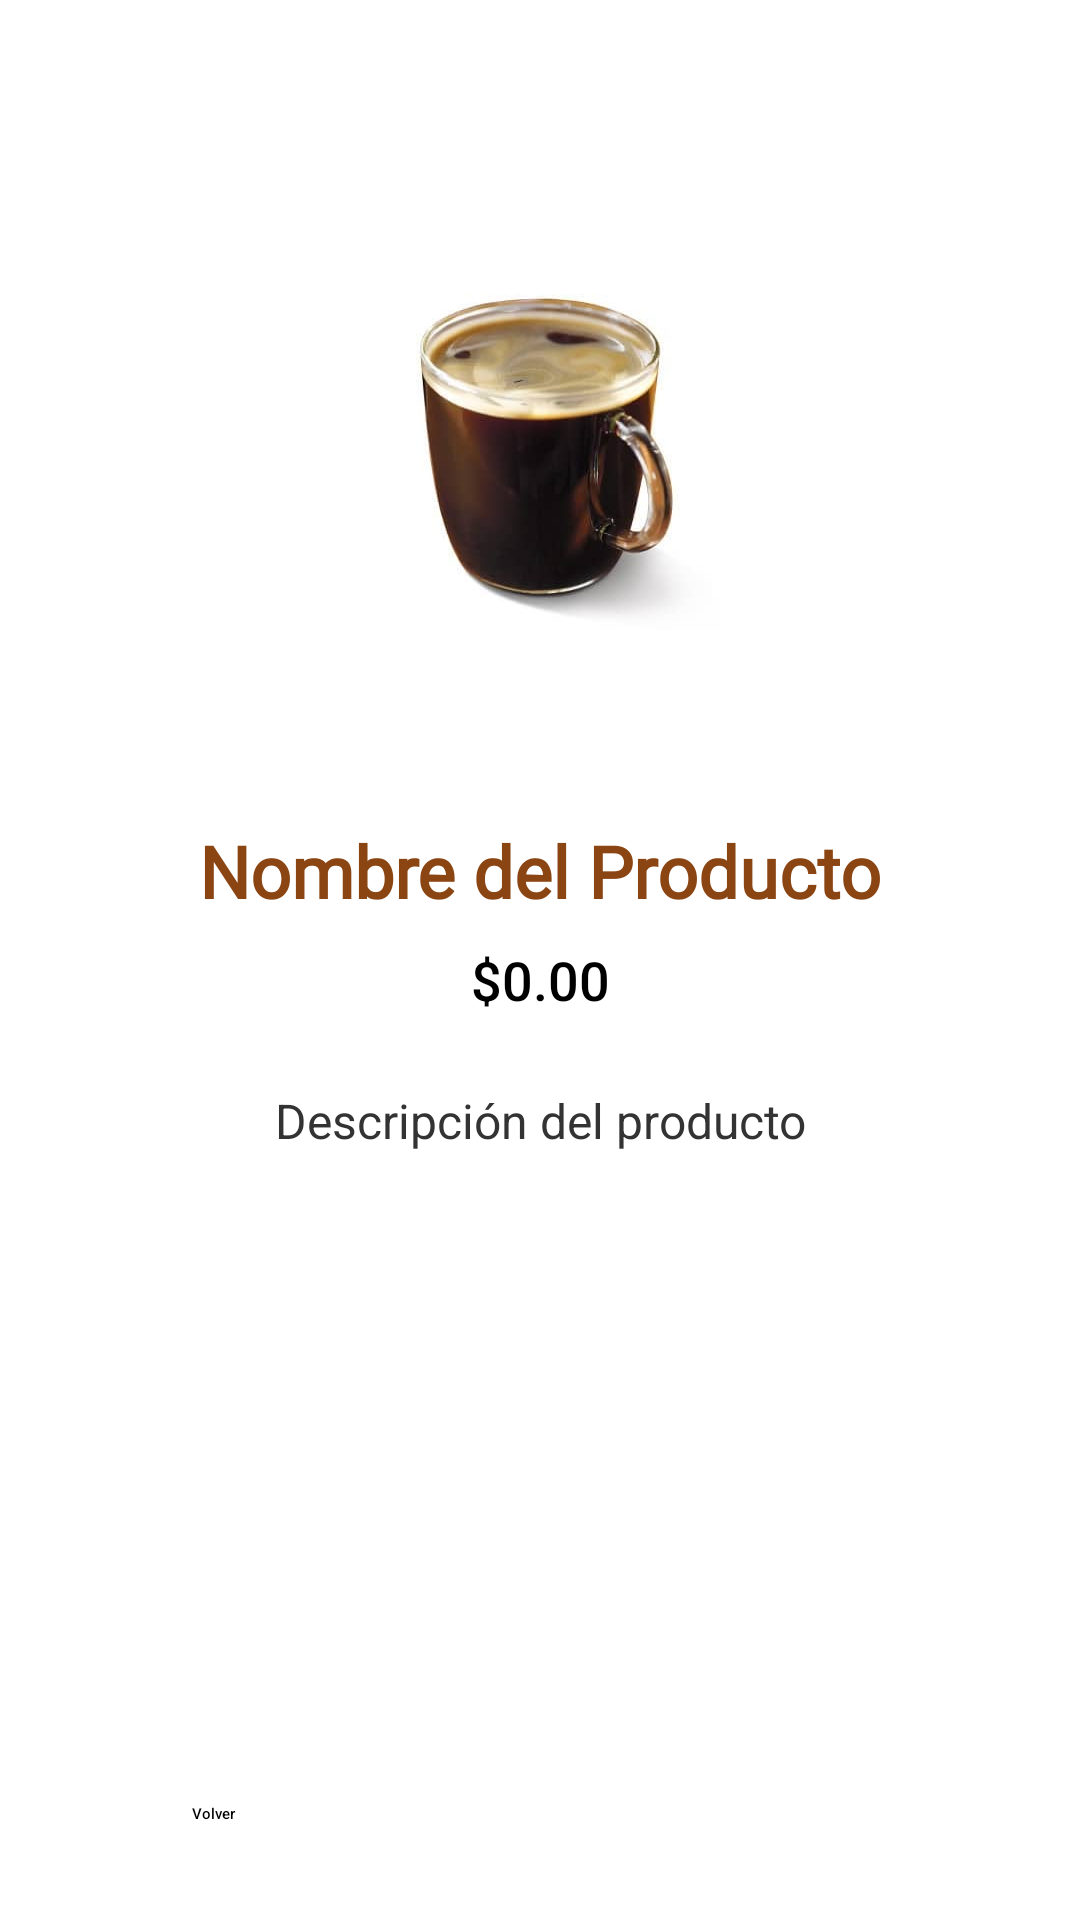

Locate icon controls on the screen. Image size 1080px x 1920px, boxes as (x1, y1, x2, y2).
cafeameric: (420, 298, 673, 613)
